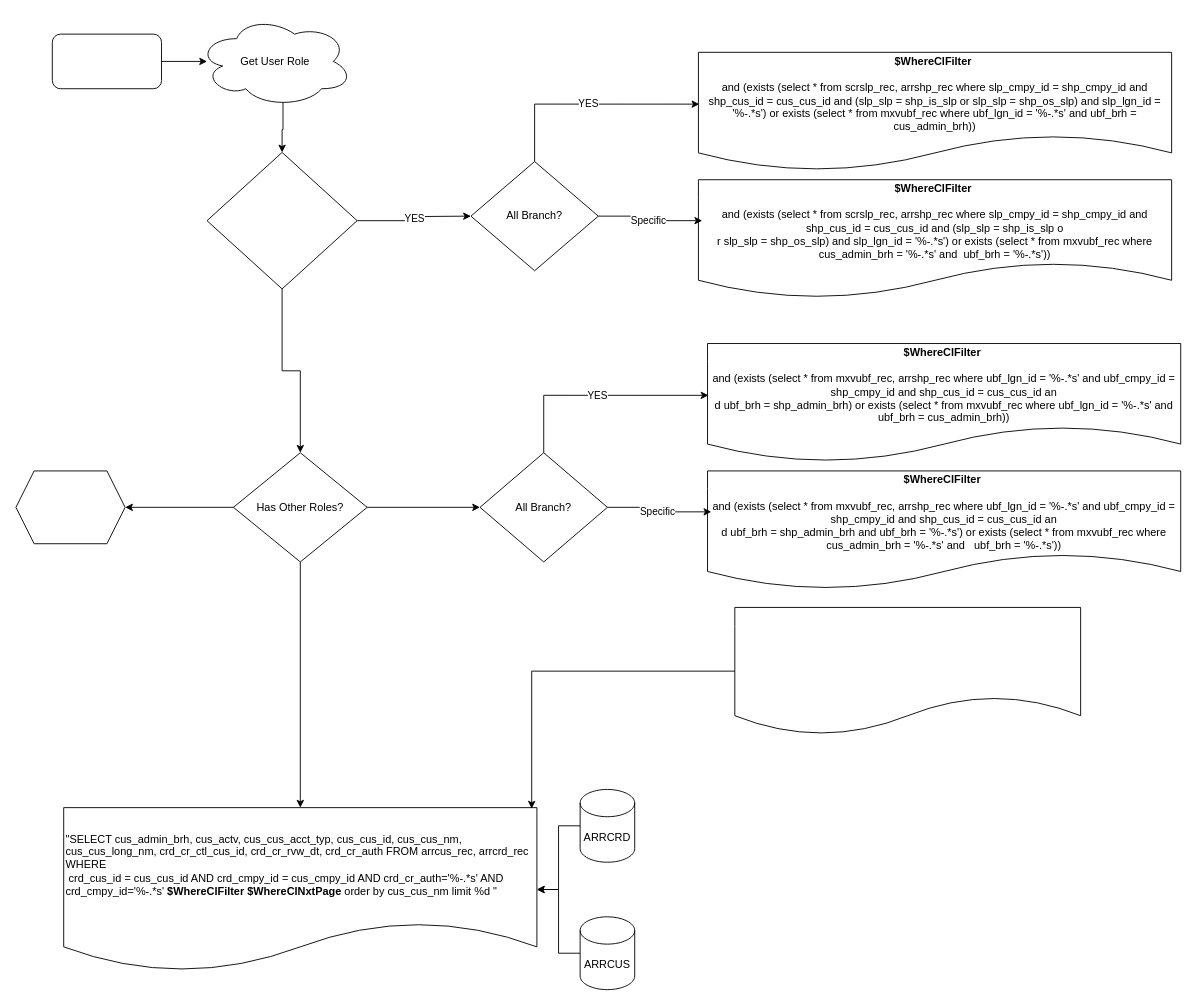
This 1197x1006 diagram has some shape labels left out. The centre of each missing label's shape, as x and y in pixels:
$ WhereClNxtPage " AND cus_cus_nm > '%s': (x=907, y=671)
ISP or OSP Role?: (x=281, y=220)
START: (x=106, y=61)
STOP Error: (x=70, y=507)
